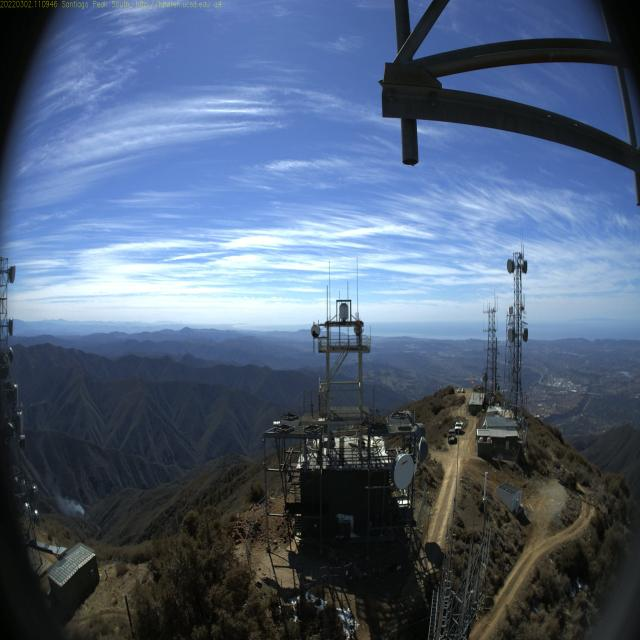smoke: (5, 366, 59, 504), (60, 494, 72, 517), (72, 502, 85, 516)
